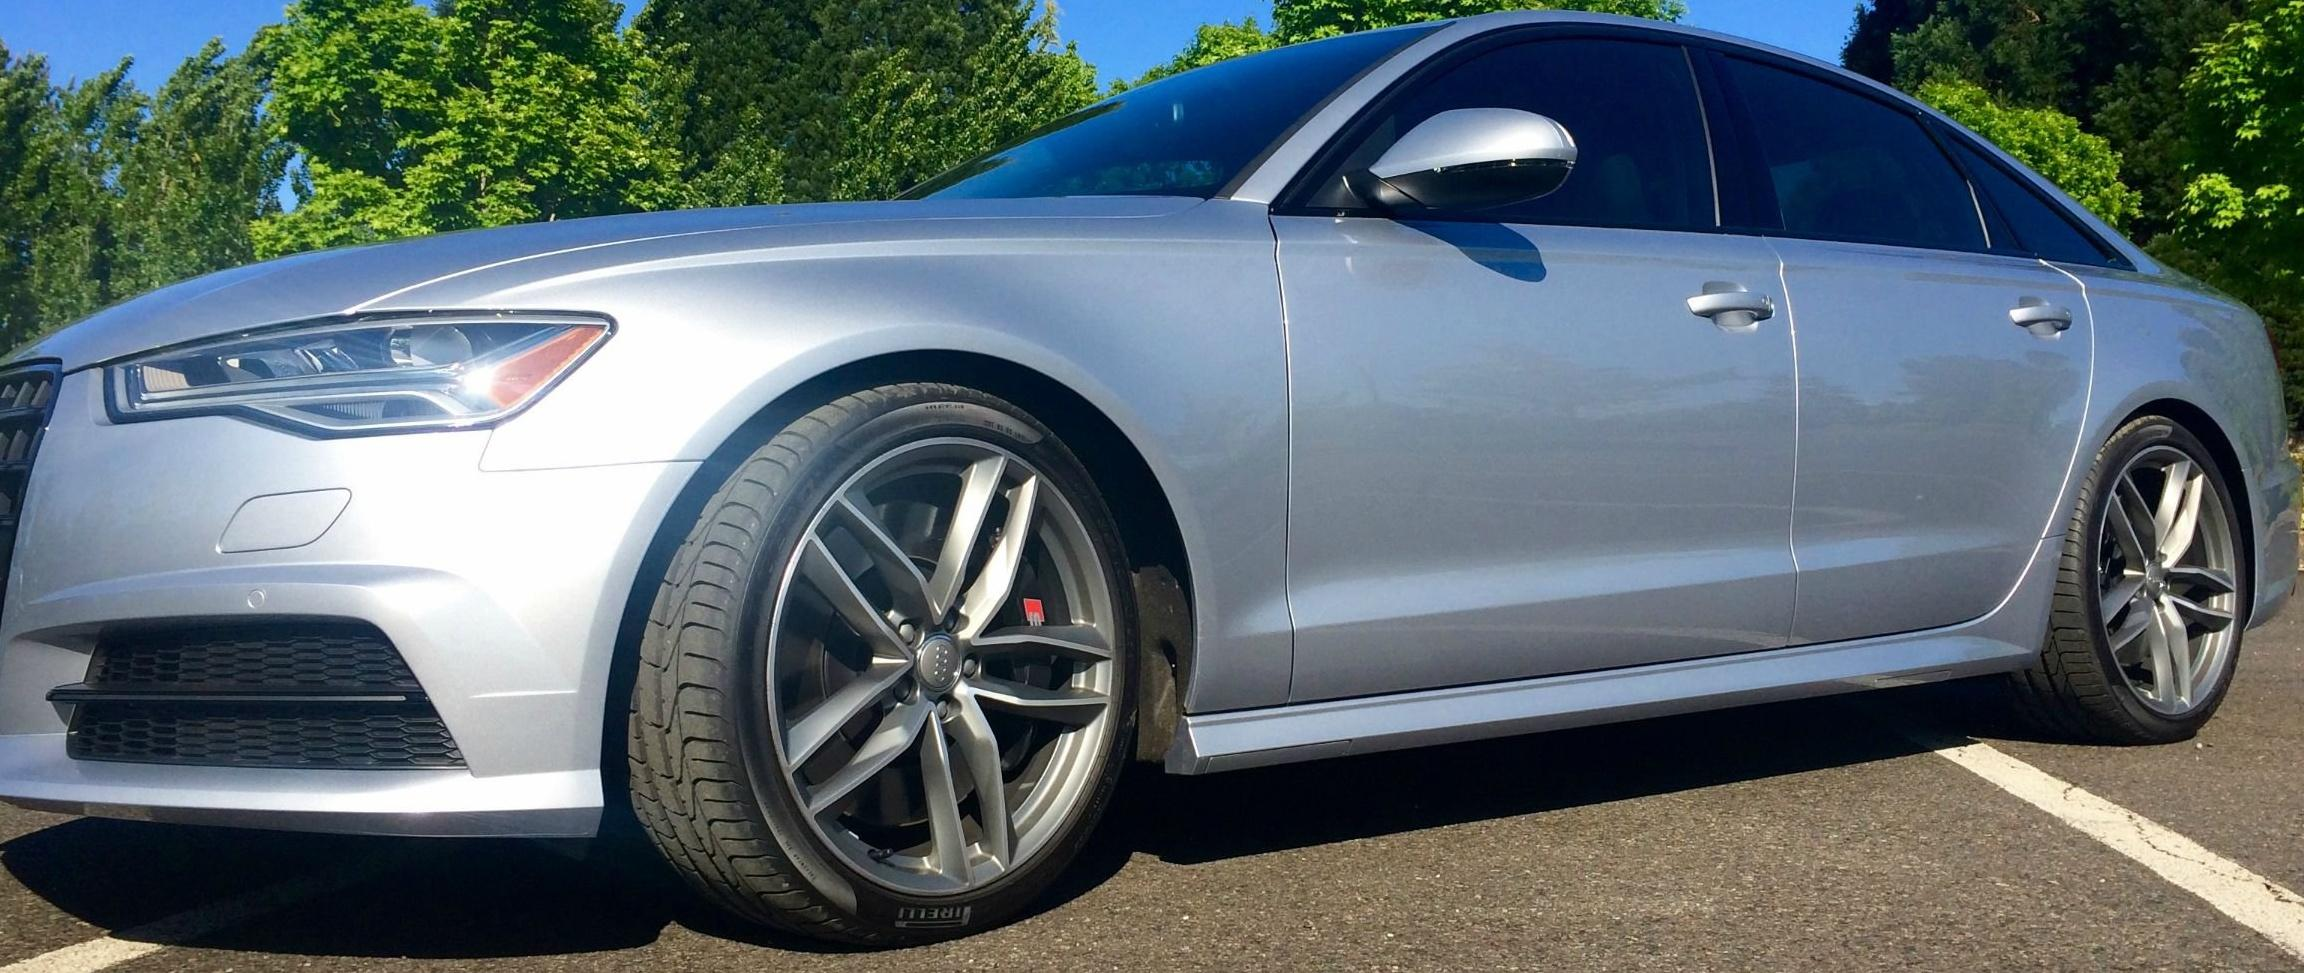Cars: (3, 13, 2300, 945)
